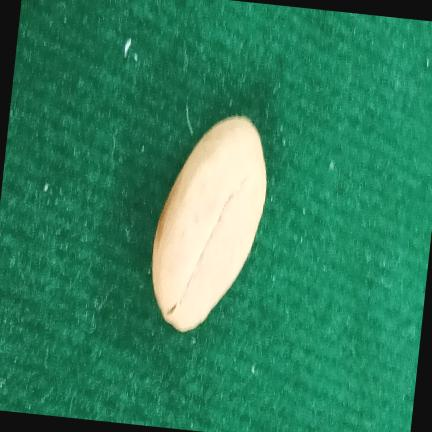parchment: (152, 116, 267, 331)
